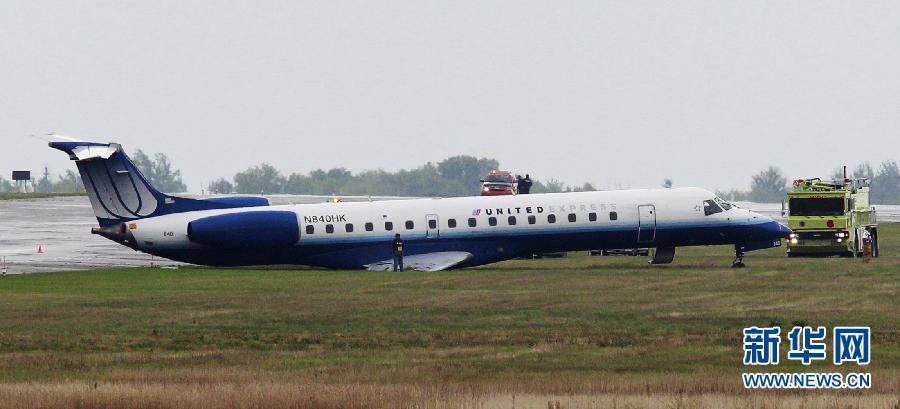airplane: (49, 126, 790, 264)
